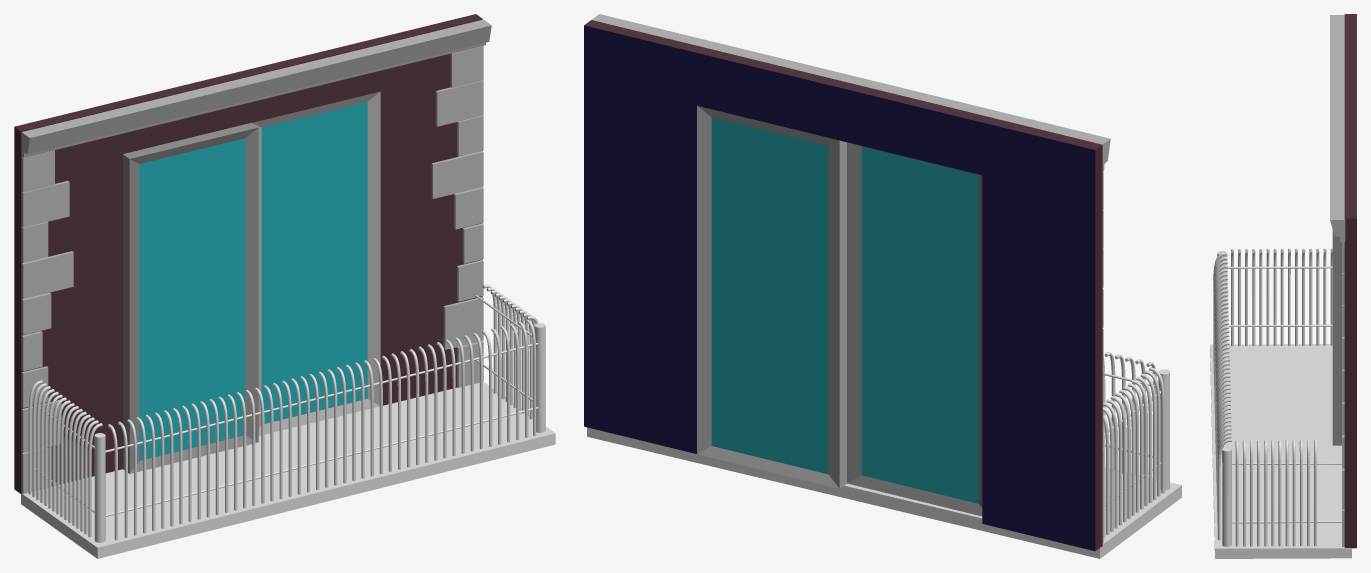
File: SlideWindowWall.fbx
3 renders of one model, left to right at view 1: azimuth 30°, elevation 25°; view 2: azimuth 150°, elevation 25°; view 3: azimuth 270°, elevation 25°, orthographic. The views are drawn at different scales.
Parts seen in each view (by area): view 1: BASE.006, SLIDE DOOR, SLIDE DOOR.001, BALCONY, WALL SIDES.004, WALL TOP.004, Cylinder547.002, Cylinder549.002, Cylinder550.002, Cylinder551.002; view 2: BASE.006, SLIDE DOOR.001, SLIDE DOOR, BALCONY, WALL TOP.004, Cylinder547.002, WALL SIDES.004; view 3: BALCONY, BASE.006, WALL TOP.004, SLIDE DOOR, Cylinder549.002, WALL SIDES.004, Line317.002, Line322.002, Line314.002, Line315.002, Line316.002, Line318.002 (+25 smaller).
Boxes of the visible parts, box(x1,y1,x2,y2) form: BASE.006: box(14, 14, 482, 493); SLIDE DOOR: box(123, 122, 258, 473); SLIDE DOOR.001: box(252, 91, 380, 435); BALCONY: box(21, 382, 555, 558); WALL SIDES.004: box(21, 45, 483, 493); WALL TOP.004: box(21, 19, 491, 157); Cylinder547.002: box(94, 433, 105, 542); Cylinder549.002: box(534, 323, 545, 432); Cylinder550.002: box(105, 407, 538, 516); Cylinder551.002: box(105, 343, 538, 452); BASE.006: box(584, 20, 1102, 551); SLIDE DOOR.001: box(697, 105, 846, 488); SLIDE DOOR: box(847, 142, 982, 516); BALCONY: box(587, 427, 1181, 558); WALL TOP.004: box(592, 14, 1110, 171); Cylinder547.002: box(1158, 369, 1169, 490); WALL SIDES.004: box(1102, 171, 1103, 543); BALCONY: box(1210, 344, 1351, 558); BASE.006: box(1344, 14, 1356, 548); WALL TOP.004: box(1330, 15, 1345, 241); SLIDE DOOR: box(1332, 230, 1341, 445); Cylinder549.002: box(1222, 447, 1231, 546); WALL SIDES.004: box(1342, 242, 1344, 546); Line317.002: box(1271, 440, 1274, 546); Line322.002: box(1235, 440, 1238, 546); Line314.002: box(1292, 440, 1295, 546); Line315.002: box(1285, 440, 1288, 546); Line316.002: box(1278, 440, 1281, 546); Line318.002: box(1264, 440, 1267, 546).
Size of the model in its own units: 803 by 618 by 242.
